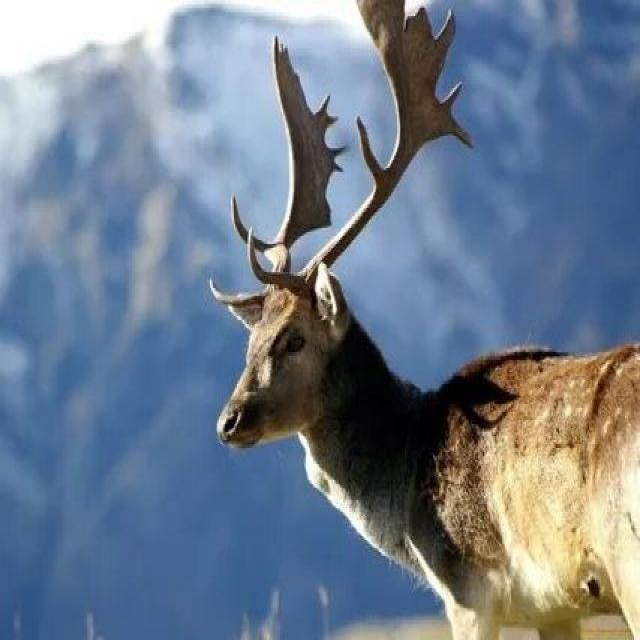deer: (138, 47, 591, 516)
